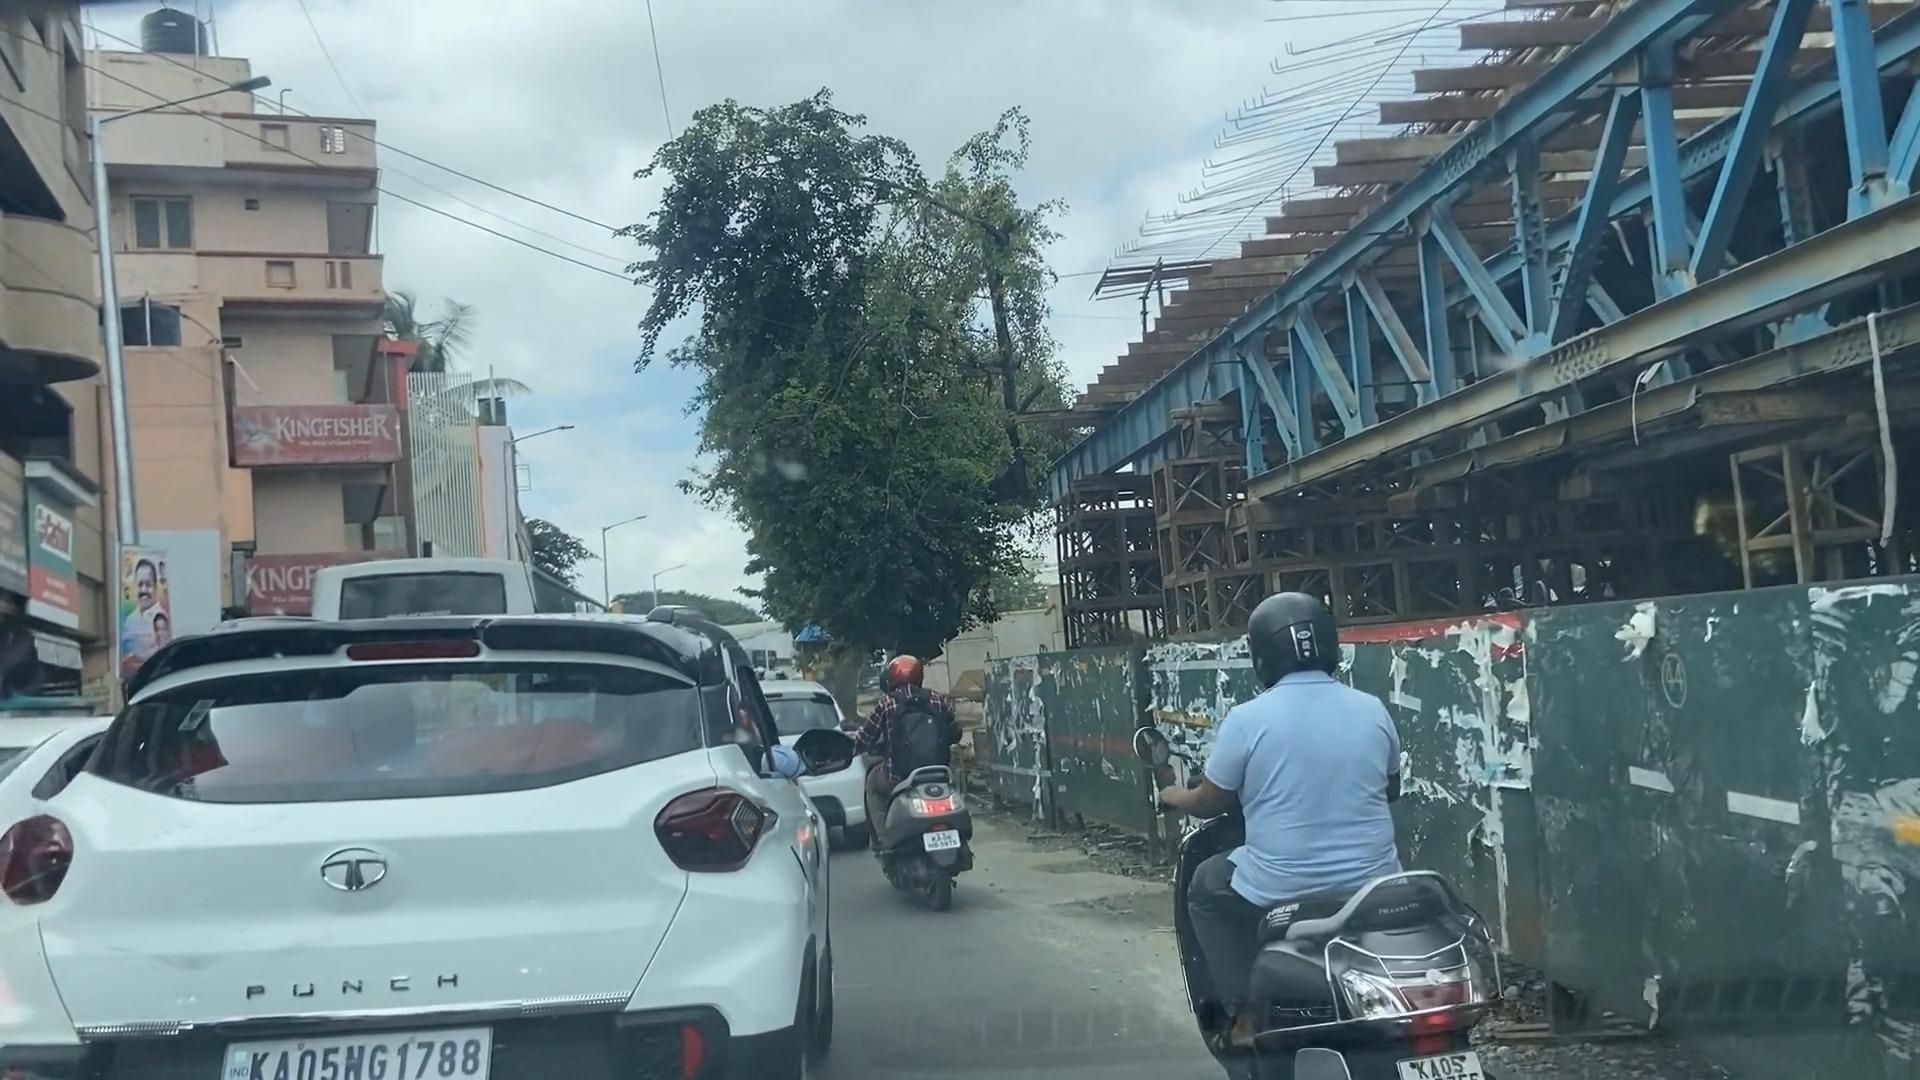LMV: (1154, 640, 1458, 1080), (864, 661, 982, 903)
